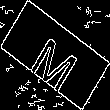M_NE: (26, 21, 84, 89)
